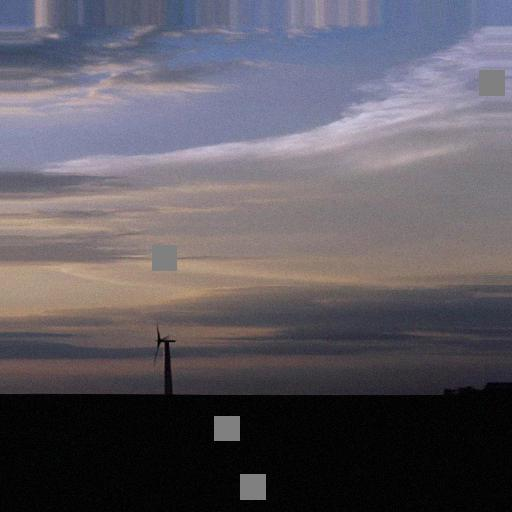wind turbine: (152, 323, 180, 394)
